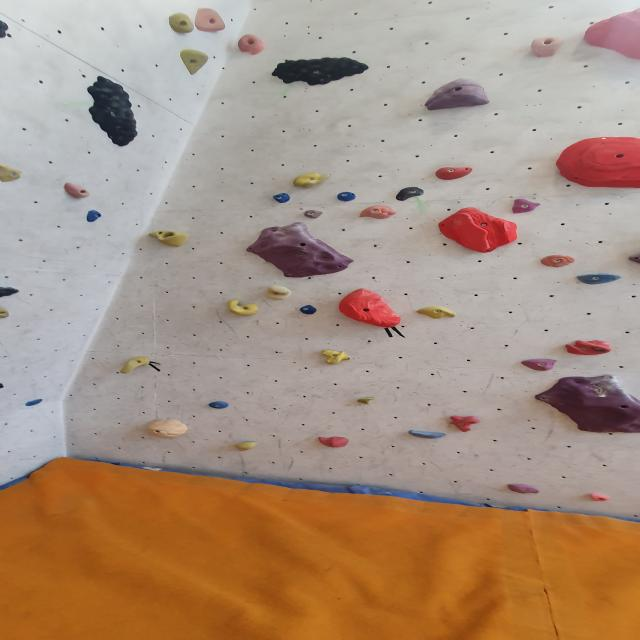Crimp: (533, 374, 640, 435), (244, 224, 356, 281), (550, 136, 638, 192), (413, 305, 462, 321), (570, 273, 625, 286), (433, 167, 476, 182), (538, 252, 578, 268), (407, 428, 451, 442), (511, 199, 544, 215), (504, 483, 542, 496), (292, 305, 322, 317), (332, 190, 360, 202), (268, 191, 294, 203), (588, 492, 612, 503), (303, 209, 327, 220), (87, 210, 105, 224), (353, 394, 377, 404), (206, 400, 232, 409), (25, 398, 45, 408)
Jug: (82, 74, 141, 148), (268, 56, 370, 88), (194, 6, 228, 34), (178, 49, 211, 76), (224, 298, 262, 318), (236, 33, 267, 56), (318, 348, 356, 366), (168, 11, 196, 35), (449, 415, 482, 435), (118, 355, 152, 374), (62, 181, 93, 200), (263, 284, 294, 301), (0, 305, 12, 321)
Pinch: (436, 206, 524, 253), (527, 34, 568, 59), (292, 172, 333, 189)
Pocket: (557, 338, 614, 357), (146, 230, 192, 248)
Sloper: (581, 8, 640, 62), (336, 287, 406, 329), (421, 77, 493, 113), (144, 418, 190, 440), (358, 205, 398, 221), (520, 358, 561, 372), (316, 436, 352, 451), (234, 441, 260, 453)
